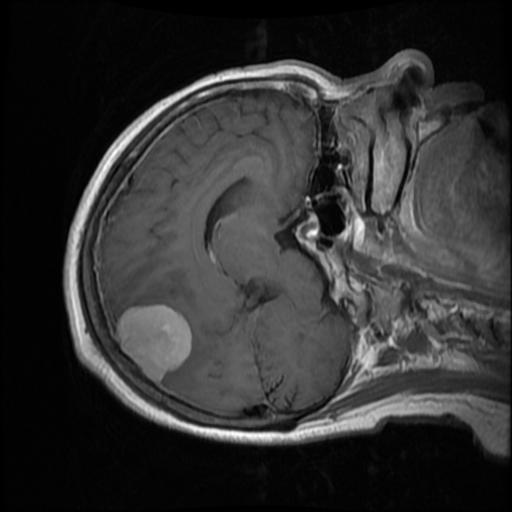meningioma: (115, 303, 190, 378)
